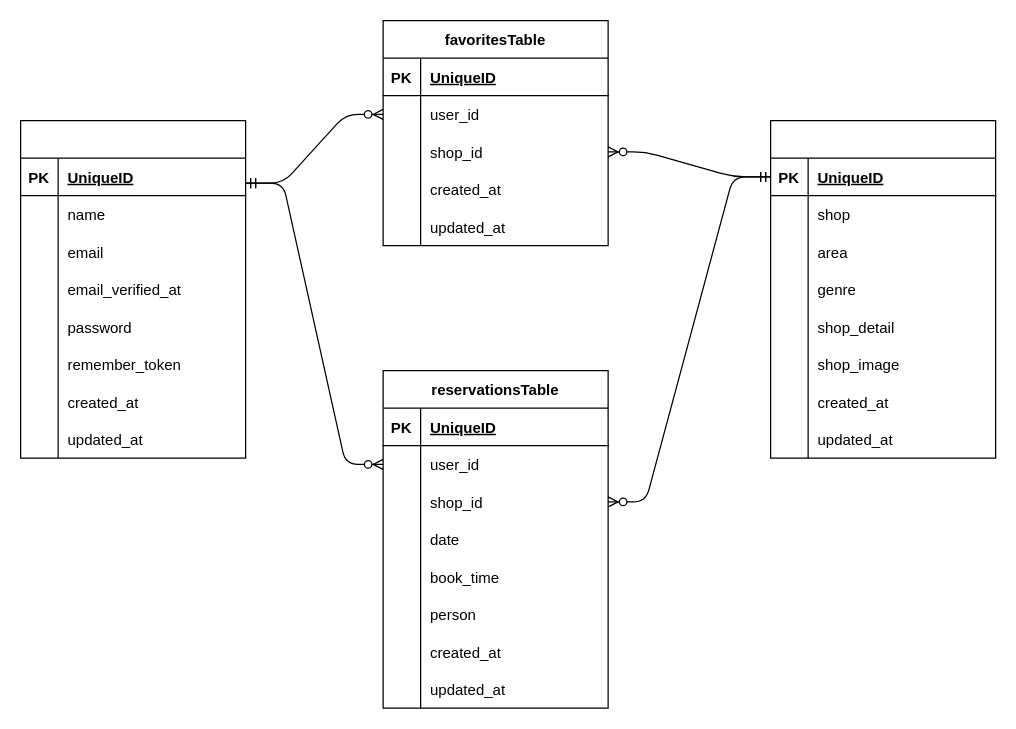
This 1016x729 diagram has some shape labels left out. Each missing label, with the box of its shape:
shopsTable: (769, 119, 996, 458)
usersTable: (19, 119, 246, 458)
